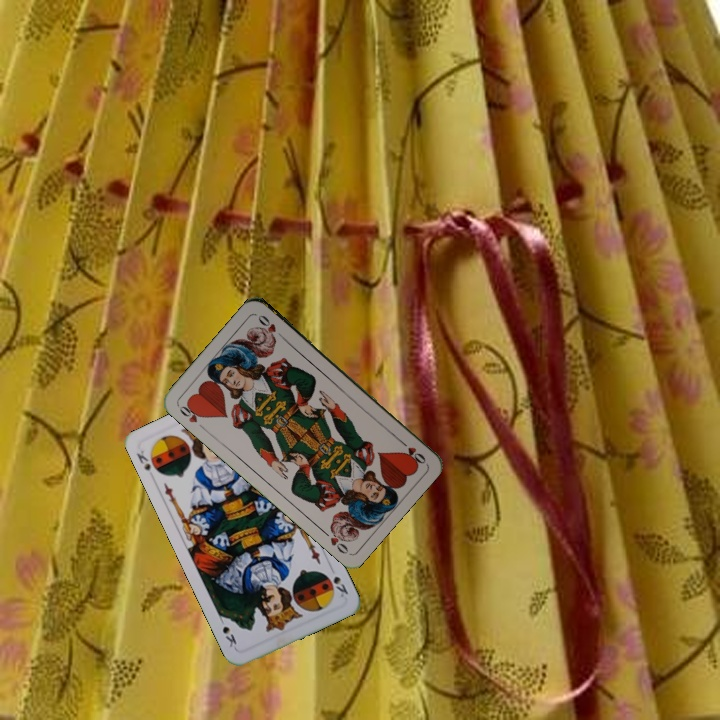HO: (174, 399, 208, 432), (395, 436, 429, 467)
SK: (329, 572, 351, 600), (132, 446, 153, 473)
